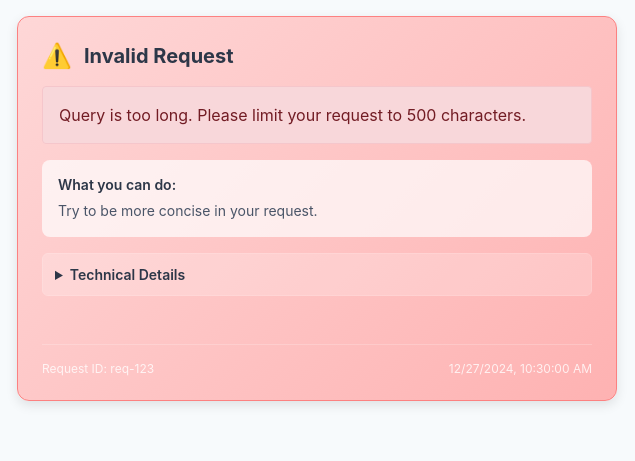
Test: ErrorDisplay › expands technical details when clicked
The width and height of the screenshot is (635, 461).
Click the heading "Technical Details" at coordinates (128, 274), box [43,254,591,295]
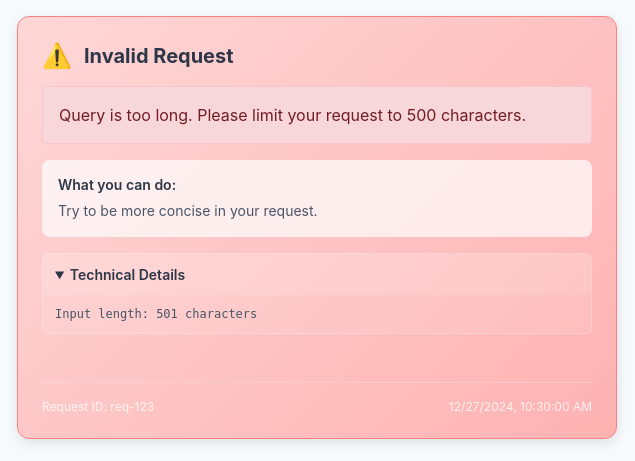
Expected: the text "Input length: 501 characters" is shown, [43,295,591,333]
